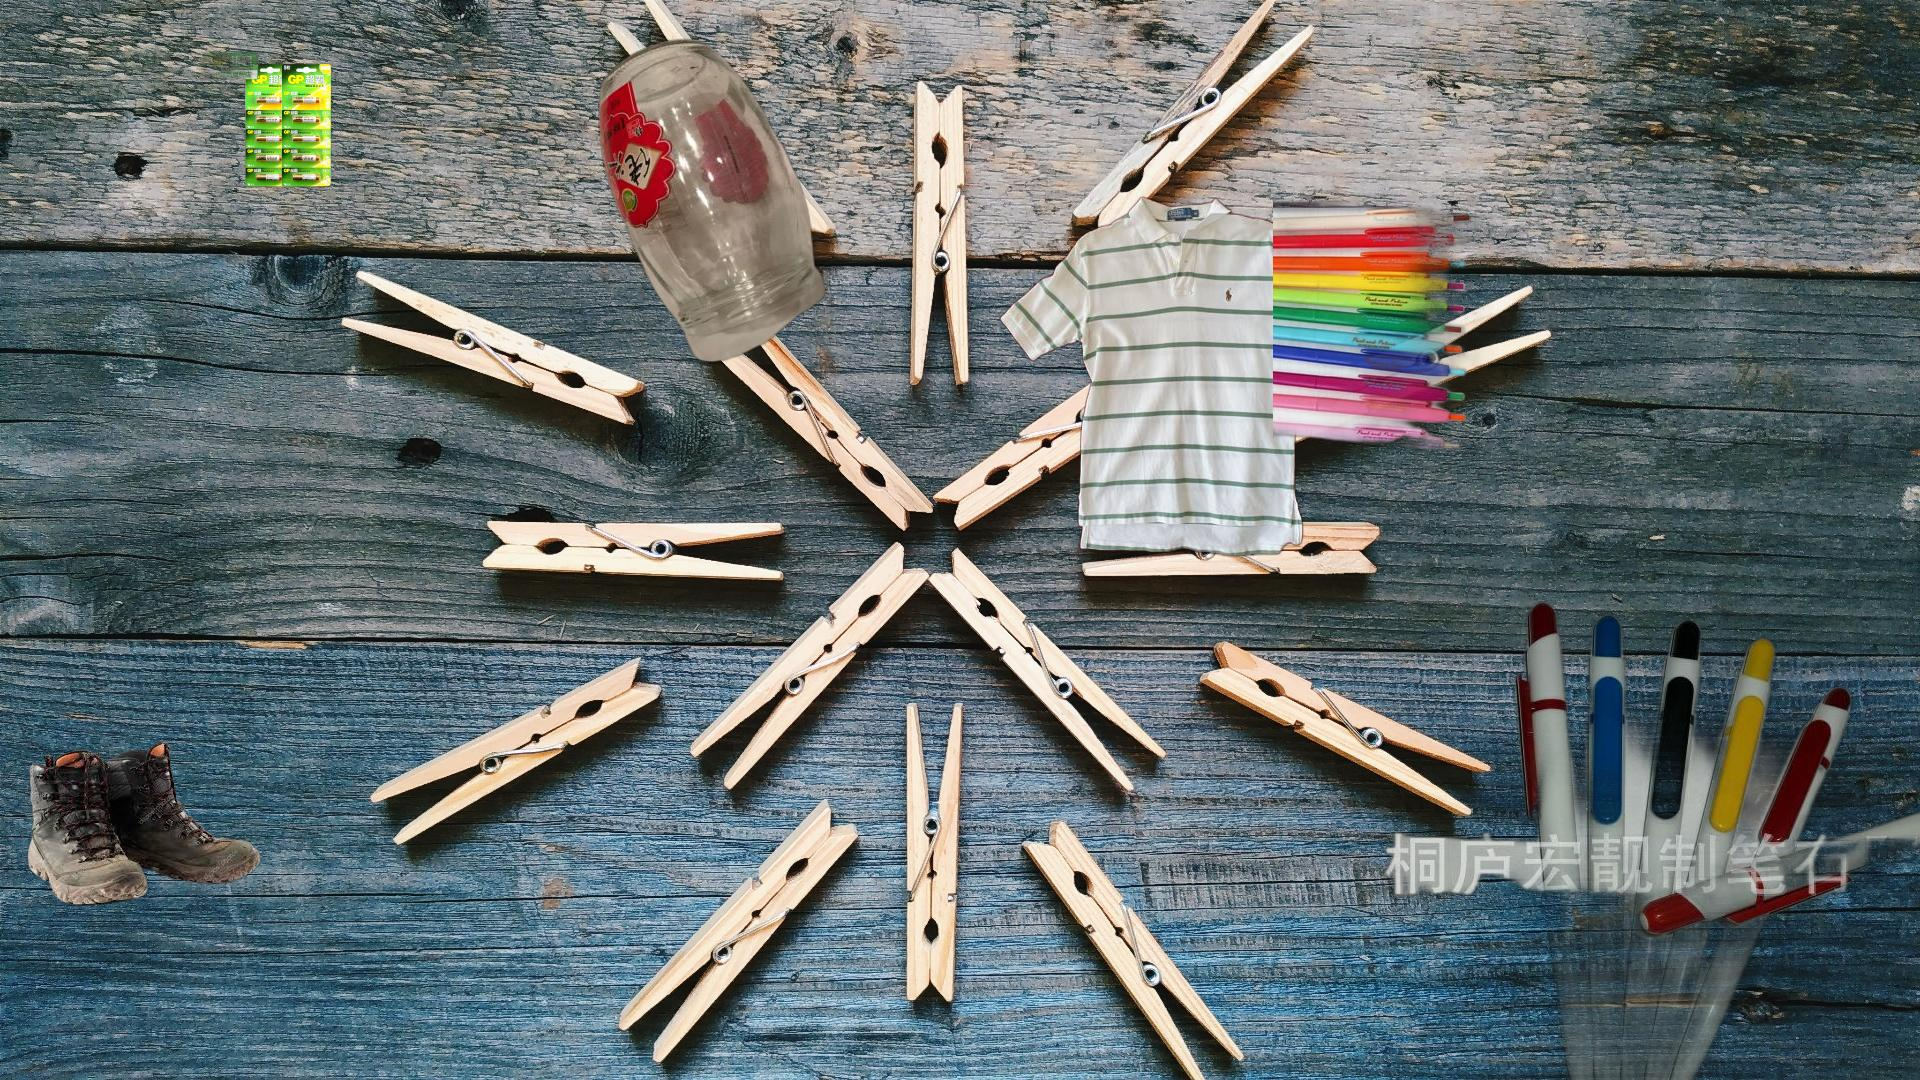battery: (200, 51, 334, 190)
clothes: (996, 193, 1374, 560)
glass: (462, 36, 973, 376)
penholder: (1323, 554, 1920, 1080), (1273, 154, 1498, 477)
shoes: (24, 738, 262, 909)
